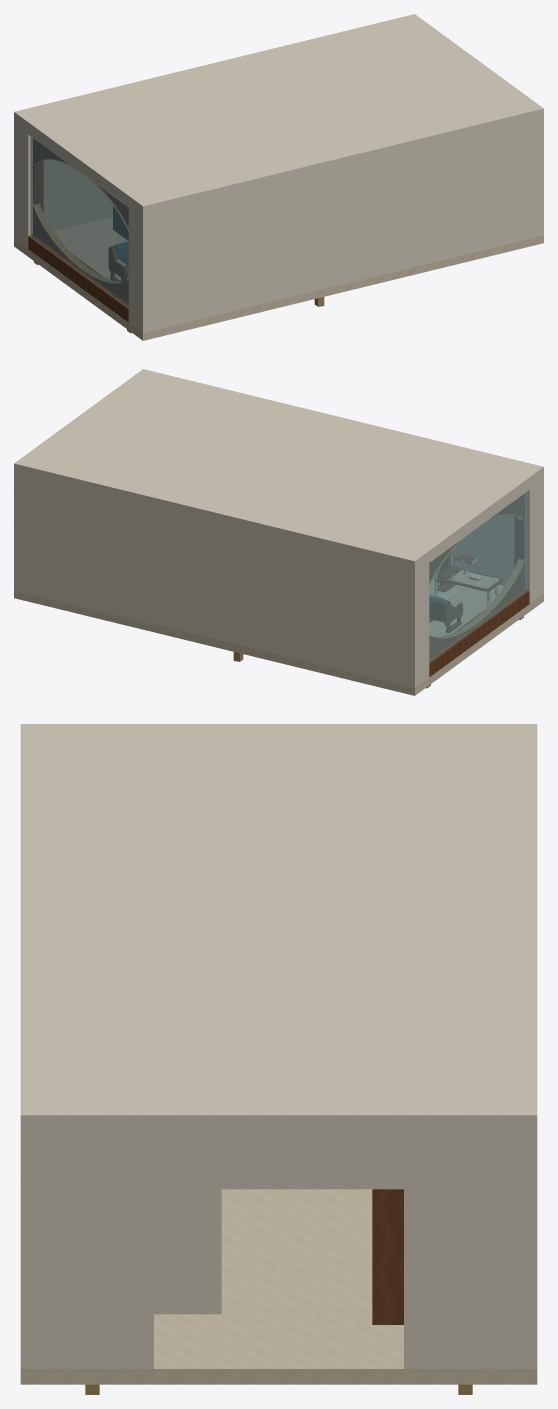
The model's file is QuietGroveBank_511_r001.glb.
The picture shows the model from 3 angles, top to bottom: view 1: azimuth 30°, elevation 25°; view 2: azimuth 150°, elevation 25°; view 3: azimuth 270°, elevation 25°; orthographic projection. The views are drawn at different scales.
Parts seen in each view (by area): view 1: QG511_Ceiling, QG511_SouthSide, QGB511_PrivateCourtGlass, QG511_RoomFloor, QG511_NorthSide, QGB511_CourtSouthPier, QGB511_CourtNorthPier, QGB511_CourtSill, QG511_OvalWindowReveal, QG511_OvalDepthReturn, QGB511_CourtHeader, QGB511_DeepReveal_-444.40000000000003; view 2: QG511_Ceiling, QG511_NorthSide, QGB511_PrivateCourtGlass, QG511_RoomFloor, QG511_SouthSide, QGB511_CourtNorthPier, QGB511_CourtSouthPier, QGB511_CourtSill, QG511_OvalWindowReveal, QG511_OvalDepthReturn, QGB511_CourtHeader, QGB511_DeepReveal_-438.8 (+1 smaller); view 3: QG511_Ceiling, QG511_RoomFloor, QG511_EntryShoulderSouth, QG511_EntryShoulderNorth, QG511_EntryHeader, QG511_WashEntrySide, QG511_EntryPrivacyDogleg, QG511_NorthSide, QG511_SouthSide.
Part boxes in pixels (<box>): QG511_Ceiling: <box>14,14,543,211</box>; QG511_SouthSide: <box>141,114,543,332</box>; QGB511_PrivateCourtGlass: <box>30,136,128,307</box>; QG511_RoomFloor: <box>14,217,543,340</box>; QG511_NorthSide: <box>14,117,112,239</box>; QGB511_CourtSouthPier: <box>128,201,150,332</box>; QGB511_CourtNorthPier: <box>14,118,32,248</box>; QGB511_CourtSill: <box>28,235,128,322</box>; QG511_OvalWindowReveal: <box>34,139,128,303</box>; QG511_OvalDepthReturn: <box>32,159,128,283</box>; QGB511_CourtHeader: <box>28,128,128,207</box>; QGB511_DeepReveal_-444.40000000000003: <box>33,138,43,234</box>; QG511_Ceiling: <box>14,369,543,566</box>; QG511_NorthSide: <box>14,469,416,687</box>; QGB511_PrivateCourtGlass: <box>429,491,527,662</box>; QG511_RoomFloor: <box>14,570,543,695</box>; QG511_SouthSide: <box>439,472,543,594</box>; QGB511_CourtNorthPier: <box>407,556,429,687</box>; QGB511_CourtSouthPier: <box>525,474,541,603</box>; QGB511_CourtSill: <box>429,590,529,677</box>; QG511_OvalWindowReveal: <box>429,494,523,658</box>; QG511_OvalDepthReturn: <box>429,514,525,638</box>; QGB511_CourtHeader: <box>429,483,529,562</box>; QGB511_DeepReveal_-438.8: <box>514,493,524,589</box>; QG511_Ceiling: <box>20,724,537,1125</box>; QG511_RoomFloor: <box>20,1189,537,1384</box>; QG511_EntryShoulderSouth: <box>29,1125,153,1368</box>; QG511_EntryShoulderNorth: <box>404,1125,528,1368</box>; QG511_EntryHeader: <box>149,1125,407,1189</box>; QG511_WashEntrySide: <box>154,1189,221,1314</box>; QG511_EntryPrivacyDogleg: <box>372,1189,403,1324</box>; QG511_NorthSide: <box>528,1125,537,1368</box>; QG511_SouthSide: <box>20,1125,29,1368</box>.
Size of the model in its own units: 12.9 by 4.91 by 7.2.
Materials: 58 (43 with a texture image).
